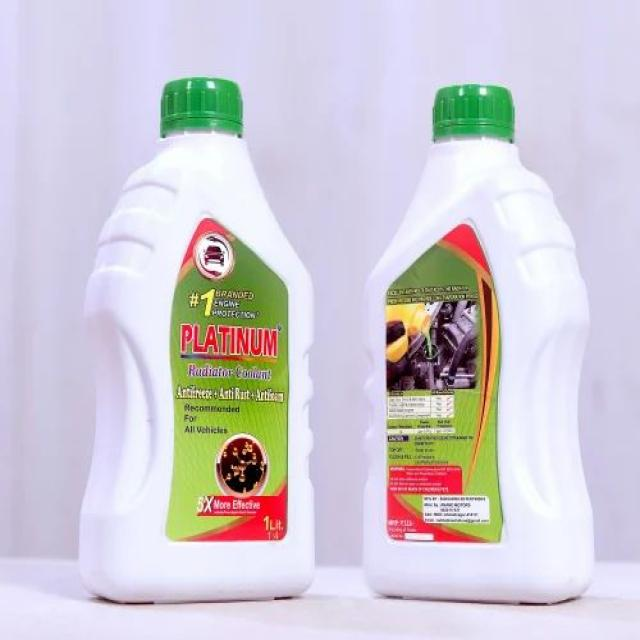coolant: (72, 69, 318, 603), (357, 72, 592, 600)
